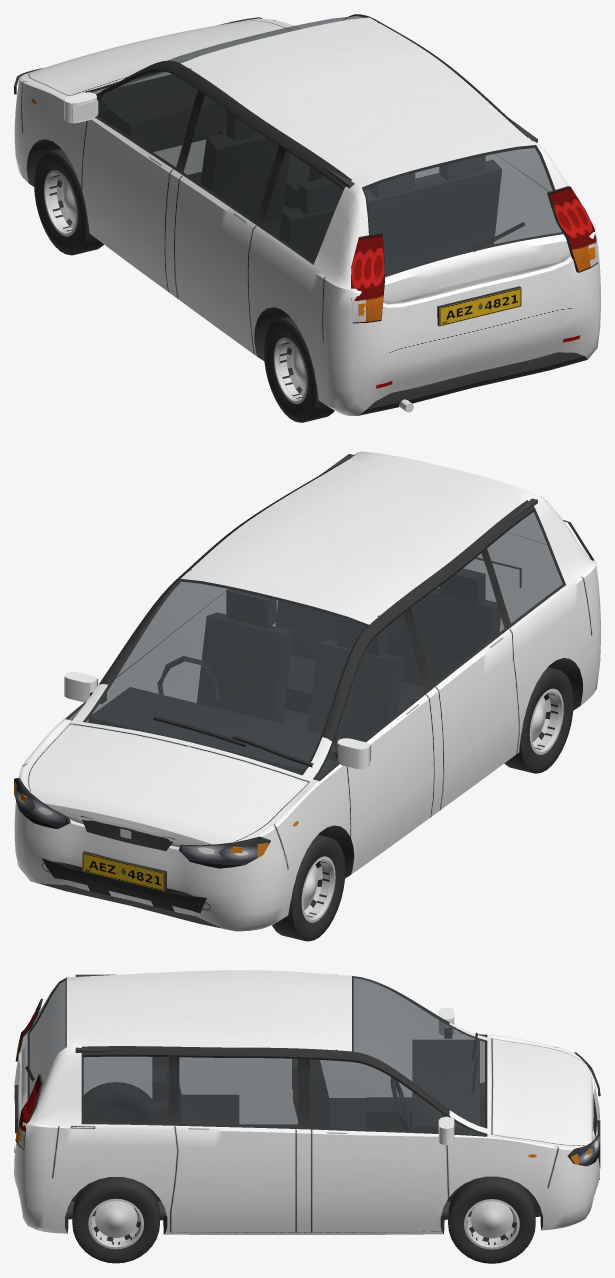
File: hatch_fit.glb
3 views of the same model, one above another, from view 1: azimuth 30°, elevation 25°; view 2: azimuth 150°, elevation 25°; view 3: azimuth 270°, elevation 25° (orthographic). The views are drawn at different scales.
Visible parts, largest first — view 1: body, wheel_fl_mesh, wheel_rl_mesh; view 2: body, wheel_fl_mesh, wheel_rl_mesh; view 3: body, wheel_fr_mesh, wheel_rr_mesh, wheel_rl_mesh.
Part boxes in pixels (x1,y1,x2,y2): body: [14, 14, 600, 415]; wheel_fl_mesh: [34, 148, 103, 255]; wheel_rl_mesh: [264, 316, 334, 422]; body: [14, 451, 600, 931]; wheel_fl_mesh: [272, 834, 345, 941]; wheel_rl_mesh: [504, 667, 573, 773]; body: [14, 970, 600, 1234]; wheel_fr_mesh: [448, 1176, 535, 1263]; wheel_rr_mesh: [72, 1177, 159, 1263]; wheel_rl_mesh: [84, 1082, 154, 1122].
Bounding box in the file's own units: 1.91 × 1.53 × 3.91.
Materials: 11 (5 with a texture image).
